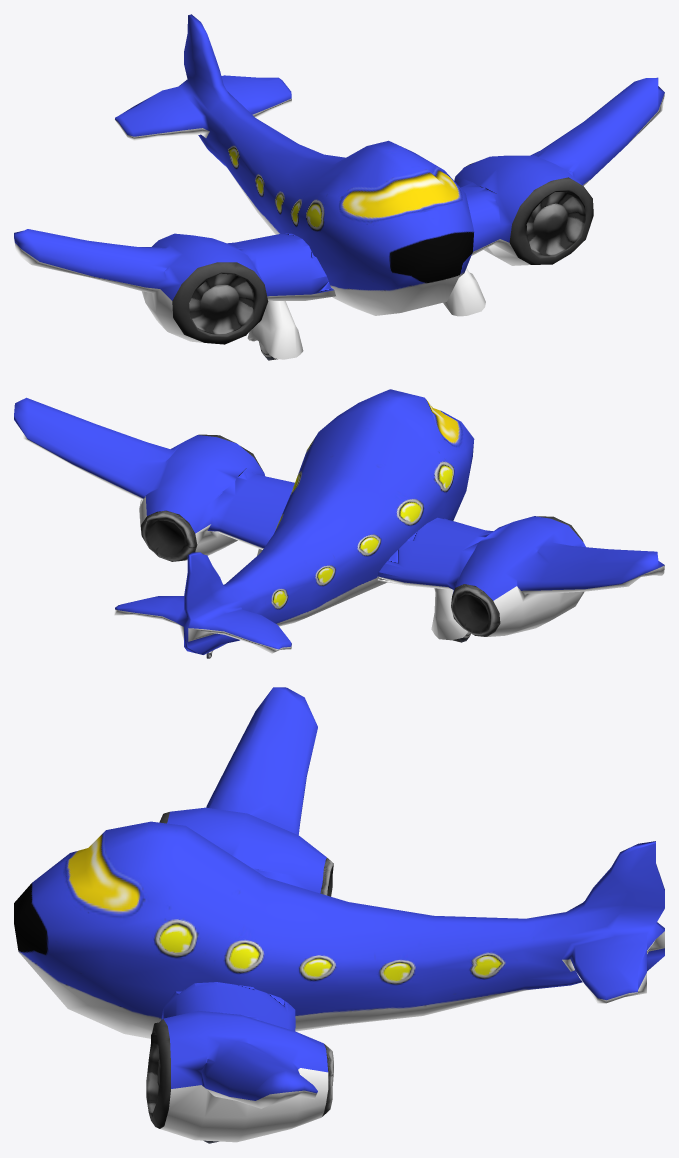
File: Airplane.fbx
3 renders of one model, top to bottom at view 1: azimuth 30°, elevation 25°; view 2: azimuth 150°, elevation 25°; view 3: azimuth 270°, elevation 25°, orthographic. The views are drawn at different scales.
Parts seen in each view (by area): view 1: Airplane; view 2: Airplane; view 3: Airplane.
Boxes of the visible parts, x1,y1,x2,y2 form: Airplane: [14, 14, 664, 360]; Airplane: [14, 389, 664, 658]; Airplane: [14, 687, 664, 1143].
Bounding box in the file's own units: 3.25 × 0.9798 × 2.27.
